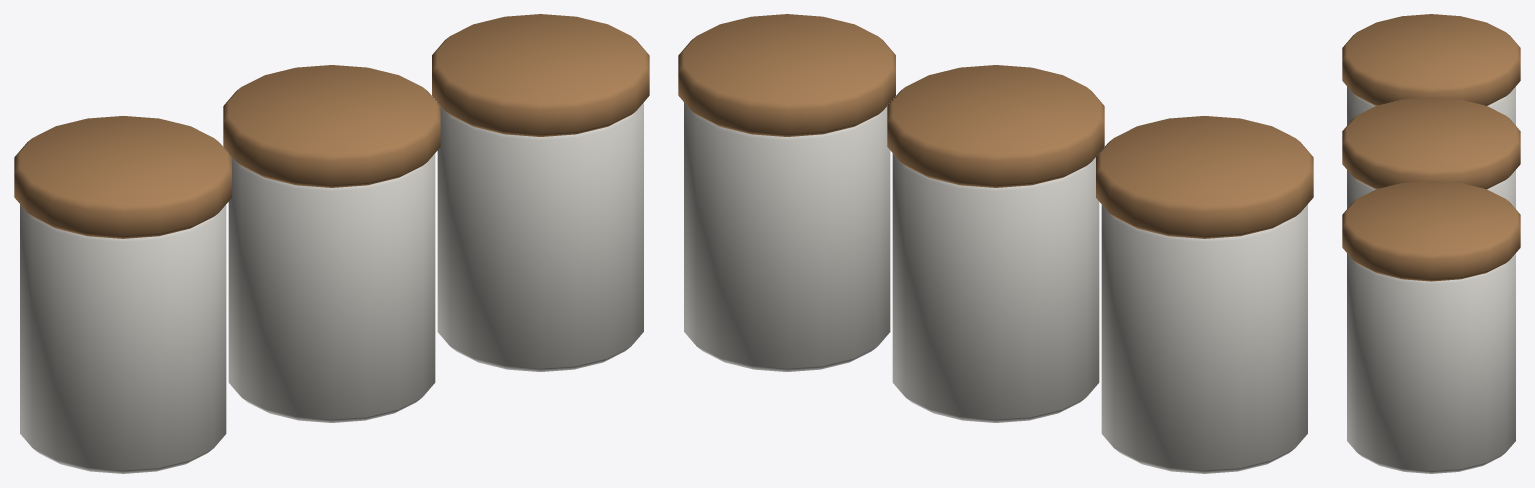
Rendered from i_jars_2.glb.
3 views of the same model, side by side, from view 1: azimuth 30°, elevation 25°; view 2: azimuth 150°, elevation 25°; view 3: azimuth 270°, elevation 25° (orthographic). The views are drawn at different scales.
Parts seen in each view (by area): view 1: o.002, o, o.004, o.005, o.001, o.003; view 2: o.002, o, o.004, o.005, o.001, o.003; view 3: o.004, o.005, o.001, o.003, o.002, o.
Boxes of the visible parts, <box> form: o.002: <box>228,153,435,422</box>; o: <box>20,204,226,473</box>; o.004: <box>437,102,643,371</box>; o.005: <box>432,14,649,136</box>; o.001: <box>14,116,231,238</box>; o.003: <box>223,65,440,187</box>; o.002: <box>892,153,1099,422</box>; o: <box>1101,204,1307,473</box>; o.004: <box>684,102,890,371</box>; o.005: <box>678,14,895,136</box>; o.001: <box>1096,116,1313,238</box>; o.003: <box>887,65,1104,187</box>; o.004: <box>1347,253,1515,473</box>; o.005: <box>1342,180,1520,281</box>; o.001: <box>1342,14,1520,105</box>; o.003: <box>1342,97,1520,189</box>; o.002: <box>1347,170,1515,208</box>; o: <box>1347,86,1515,125</box>.
Size of the model in its own units: 0.369 by 0.158 by 0.1142.
